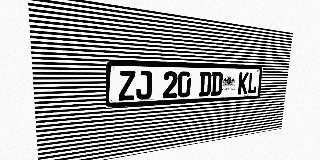0: (177, 71, 191, 98)
2: (163, 71, 178, 98)
D: (199, 72, 212, 97), (210, 72, 223, 96)
J: (136, 71, 152, 100)
K: (238, 72, 249, 94)
L: (247, 72, 258, 94)
Z: (118, 70, 135, 101)
